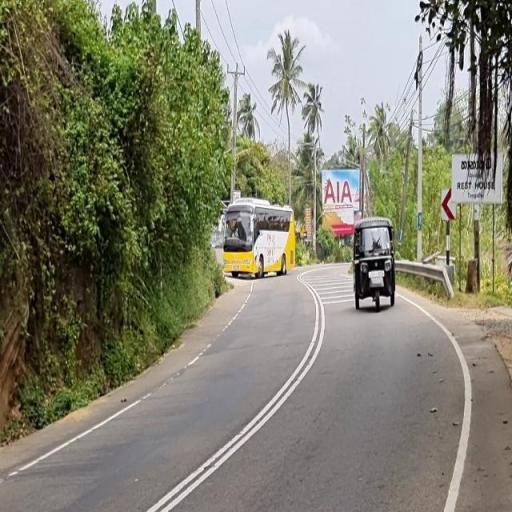double_white_line: (142, 282, 326, 511)
